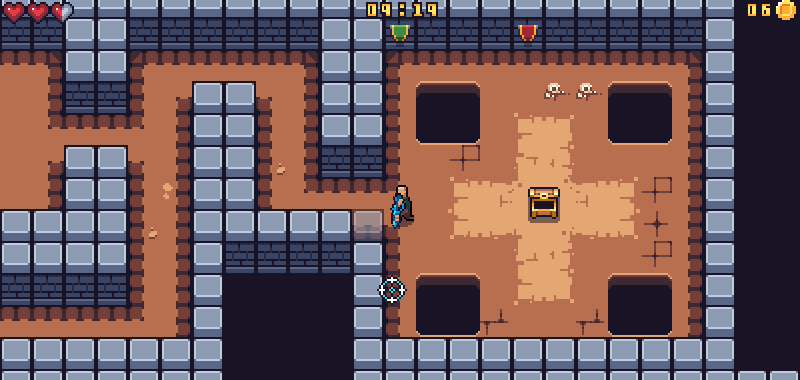treasury_open: (526, 184, 562, 221)
